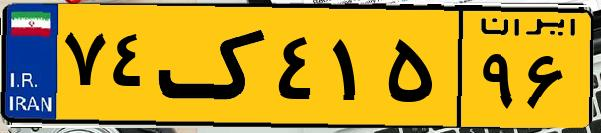1: (330, 28, 385, 110)
4: (270, 28, 330, 110), (110, 28, 158, 98)
5: (385, 28, 445, 110)
6: (525, 38, 570, 115)
7: (57, 26, 110, 100)
9: (475, 38, 525, 113)
ک: (158, 12, 270, 120)
